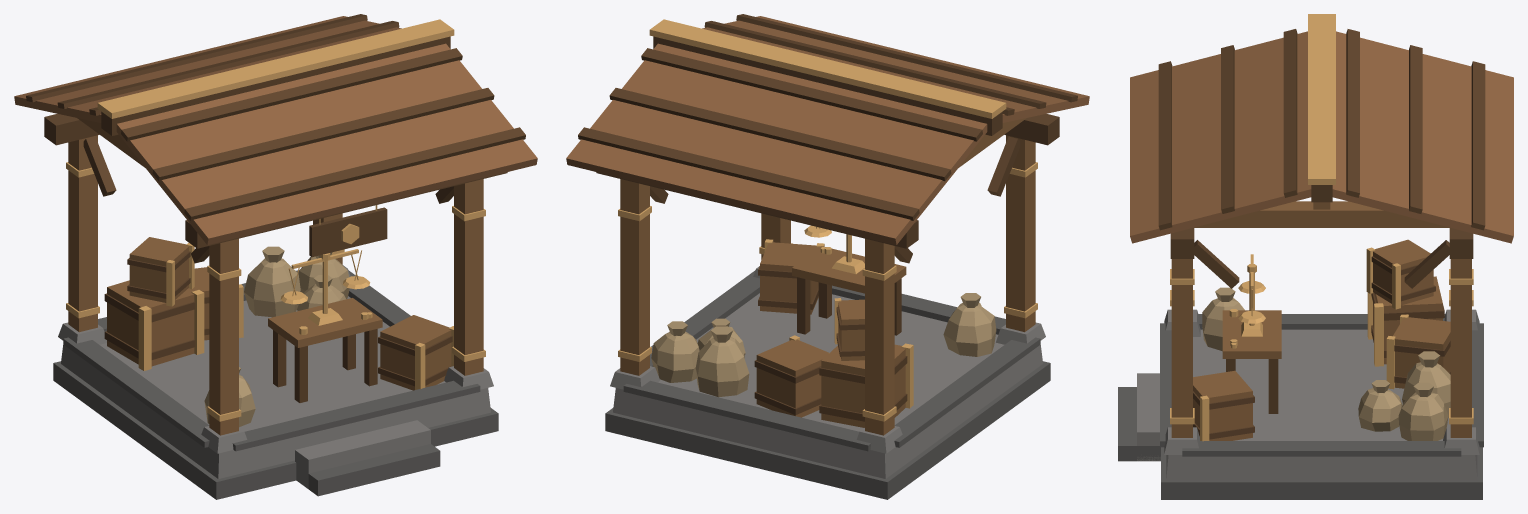
The model's file is depot.glb.
The picture shows the model from 3 angles, left to right: view 1: azimuth 30°, elevation 25°; view 2: azimuth 150°, elevation 25°; view 3: azimuth 270°, elevation 25°; orthographic projection.
Visible parts, largest first — view 1: roof_f, platform_slab, ridge_cap, platform_plinth, crate_a, roof_b, post_fr, post_fl, post_bl, crate_d, shingle_f_0, shingle_f_2 (+26 smaller); view 2: roof_b, platform_slab, platform_plinth, ridge_cap, roof_f, post_br, post_bl, post_fl, shingle_b_0, shingle_b_2, shingle_b_1, crate_b (+22 smaller); view 3: roof_b, roof_f, platform_slab, platform_plinth, ridge_cap, coping_r, tie_beam_r, crate_d, post_br, post_fr, crate_c, crate_b (+24 smaller).
Boxes of the visible parts, x1,y1,x2,y2 form: roof_f: (116,43,537,245); platform_slab: (61,296,490,478); ridge_cap: (97,19,454,118); platform_plinth: (53,361,498,499); crate_a: (104,280,204,370); roof_b: (14,16,401,122); post_fr: (454,179,483,375); post_fl: (209,238,238,435); post_bl: (68,135,97,332); crate_d: (378,315,453,390); shingle_f_0: (121,48,462,141); shingle_f_2: (184,127,525,220); roof_b: (566,43,987,245); platform_slab: (613,293,1042,478); platform_plinth: (605,361,1050,499); ridge_cap: (649,19,1006,118); roof_f: (702,16,1089,122); post_br: (620,179,649,375); post_bl: (865,238,894,435); post_fl: (1006,135,1035,332); shingle_b_0: (641,48,982,141); shingle_b_2: (578,127,919,220); shingle_b_1: (609,88,951,181); crate_b: (754,335,829,417); roof_b: (1332,31,1513,243); roof_f: (1130,31,1311,243); platform_slab: (1166,329,1477,480); platform_plinth: (1161,447,1482,499); ridge_cap: (1308,14,1335,184); coping_r: (1182,441,1461,456); tie_beam_r: (1193,201,1450,227); crate_d: (1193,370,1254,441); post_br: (1450,259,1471,437); post_fr: (1171,259,1192,437); crate_c: (1366,239,1435,309); crate_b: (1386,314,1450,389).
Size of what is drawn, in the model's own units: 3.64 by 3.45 by 3.69.
